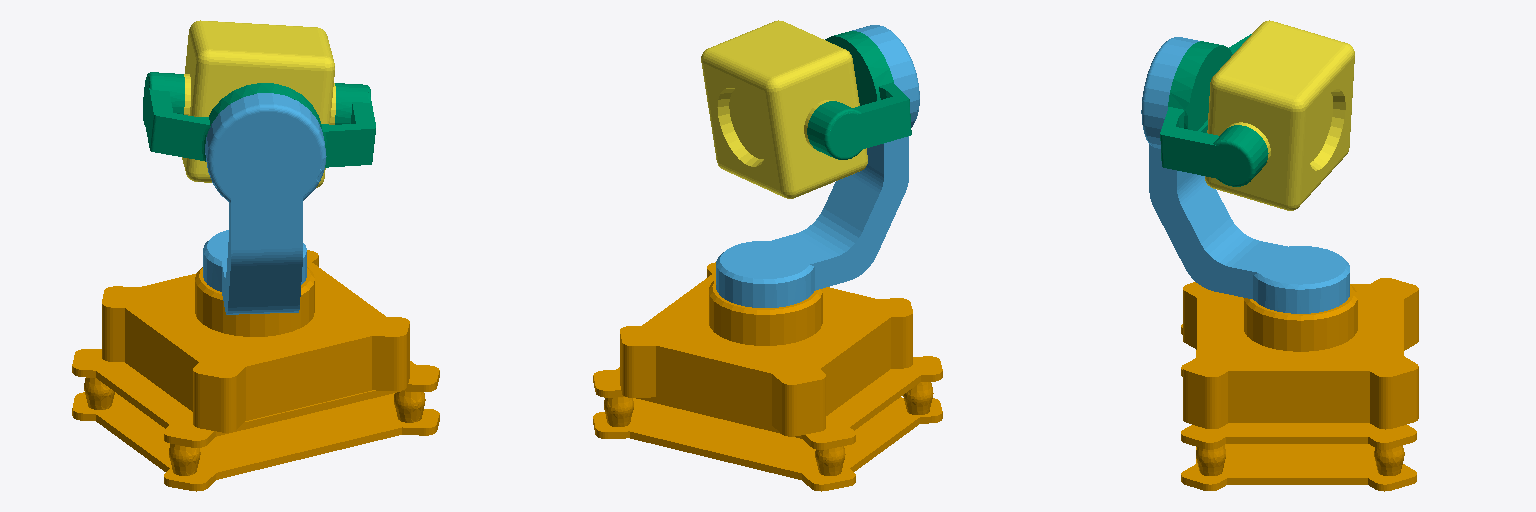
The robot description file, URDF, robot "generated_robot":
<?xml version='1.0' encoding='utf-8'?>
<robot name="generated_robot">
  <link name="base_link">
    <inertial>
      <origin xyz="0.00013909892 0.00013685687 -0.0015628412" rpy="0 0 0" />
      <mass value="0.079097845" />
      <inertia ixx="2.6851797e-05" iyy="3.1551232e-05" izz="4.7326611e-05" ixy="-2.0570896e-08" ixz="-5.749476e-08" iyz="-9.8053429e-08" />
    </inertial>
    <visual>
      <origin xyz="-0.0045947285 0.0051830235 -1.0195" rpy="0 0 0" />
      <geometry>
        <mesh filename="meshes/part_004_solid_004.stl" scale="0.001 0.001 0.001" />
      </geometry>
    </visual>
    <visual>
      <origin xyz="-0.0045947285 0.0051830235 -1.0195" rpy="0 0 0" />
      <geometry>
        <mesh filename="meshes/part_007_solid_007.stl" scale="0.001 0.001 0.001" />
      </geometry>
    </visual>
    <visual>
      <origin xyz="-0.0045947285 0.0051830235 -1.0195" rpy="0 0 0" />
      <geometry>
        <mesh filename="meshes/part_003_solid_003.stl" scale="0.001 0.001 0.001" />
      </geometry>
    </visual>
    <visual>
      <origin xyz="-0.0045947285 0.0051830235 -1.0195" rpy="0 0 0" />
      <geometry>
        <mesh filename="meshes/part_006_solid_006.stl" scale="0.001 0.001 0.001" />
      </geometry>
    </visual>
    <visual>
      <origin xyz="-0.0045947285 0.0051830235 -1.0195" rpy="0 0 0" />
      <geometry>
        <mesh filename="meshes/part_005_solid_005.stl" scale="0.001 0.001 0.001" />
      </geometry>
    </visual>
    <visual>
      <origin xyz="-0.0045947285 0.0051830235 -1.0195" rpy="0 0 0" />
      <geometry>
        <mesh filename="meshes/part_002_solid_002.stl" scale="0.001 0.001 0.001" />
      </geometry>
    </visual>
    <visual>
      <origin xyz="-0.0045947285 0.0051830235 -1.0195" rpy="0 0 0" />
      <geometry>
        <mesh filename="meshes/part_001_solid_001.stl" scale="0.001 0.001 0.001" />
      </geometry>
    </visual>
    <collision>
      <origin xyz="-0.0045947285 0.0051830235 -1.0195" rpy="0 0 0" />
      <geometry>
        <mesh filename="meshes/part_004_solid_004.stl" scale="0.001 0.001 0.001" />
      </geometry>
    </collision>
    <collision>
      <origin xyz="-0.0045947285 0.0051830235 -1.0195" rpy="0 0 0" />
      <geometry>
        <mesh filename="meshes/part_007_solid_007.stl" scale="0.001 0.001 0.001" />
      </geometry>
    </collision>
    <collision>
      <origin xyz="-0.0045947285 0.0051830235 -1.0195" rpy="0 0 0" />
      <geometry>
        <mesh filename="meshes/part_003_solid_003.stl" scale="0.001 0.001 0.001" />
      </geometry>
    </collision>
    <collision>
      <origin xyz="-0.0045947285 0.0051830235 -1.0195" rpy="0 0 0" />
      <geometry>
        <mesh filename="meshes/part_006_solid_006.stl" scale="0.001 0.001 0.001" />
      </geometry>
    </collision>
    <collision>
      <origin xyz="-0.0045947285 0.0051830235 -1.0195" rpy="0 0 0" />
      <geometry>
        <mesh filename="meshes/part_005_solid_005.stl" scale="0.001 0.001 0.001" />
      </geometry>
    </collision>
    <collision>
      <origin xyz="-0.0045947285 0.0051830235 -1.0195" rpy="0 0 0" />
      <geometry>
        <mesh filename="meshes/part_002_solid_002.stl" scale="0.001 0.001 0.001" />
      </geometry>
    </collision>
    <collision>
      <origin xyz="-0.0045947285 0.0051830235 -1.0195" rpy="0 0 0" />
      <geometry>
        <mesh filename="meshes/part_001_solid_001.stl" scale="0.001 0.001 0.001" />
      </geometry>
    </collision>
  </link>
  <link name="link_YAW">
    <inertial>
      <origin xyz="-0.0069977394 -0.014614324 0.013633263" rpy="0 0 0" />
      <mass value="0.023667484" />
      <inertia ixx="1.516529e-05" iyy="1.1481096e-05" izz="7.8066941e-06" ixy="-2.2889e-06" ixz="2.8085623e-06" iyz="5.8654173e-06" />
    </inertial>
    <visual>
      <origin xyz="-0.0048032038 0.0049472985 -1.039" rpy="0 0 0" />
      <geometry>
        <mesh filename="meshes/part_008_solid_008.stl" scale="0.001 0.001 0.001" />
      </geometry>
    </visual>
    <collision>
      <origin xyz="-0.0048032038 0.0049472985 -1.039" rpy="0 0 0" />
      <geometry>
        <mesh filename="meshes/part_008_solid_008.stl" scale="0.001 0.001 0.001" />
      </geometry>
    </collision>
  </link>
  <link name="link_ROLL">
    <inertial>
      <origin xyz="-6.0988092e-08 2.7535263e-10 -0.012381598" rpy="0 0 0" />
      <mass value="0.013033425" />
      <inertia ixx="1.8374964e-06" iyy="4.9212611e-06" izz="4.0390911e-06" ixy="3.1356037e-07" ixz="-1.0114726e-11" iyz="1.9803367e-13" />
    </inertial>
    <visual>
      <origin xyz="-0.0064687661 -1.089 -0.037934806" rpy="-1.5707963 0.44656282 0" />
      <geometry>
        <mesh filename="meshes/part_009_solid_009.stl" scale="0.001 0.001 0.001" />
      </geometry>
    </visual>
    <collision>
      <origin xyz="-0.0064687661 -1.089 -0.037934806" rpy="-1.5707963 0.44656282 0" />
      <geometry>
        <mesh filename="meshes/part_009_solid_009.stl" scale="0.001 0.001 0.001" />
      </geometry>
    </collision>
  </link>
  <link name="link_PITCH">
    <inertial>
      <origin xyz="0.00079794277 -0.00025419143 -0.017500002" rpy="0 0 0" />
      <mass value="0.038839518" />
      <inertia ixx="7.8388505e-06" iyy="6.4743124e-06" izz="6.1440056e-06" ixy="-4.8376547e-07" ixz="-1.114686e-14" iyz="-3.8390454e-12" />
    </inertial>
    <visual>
      <origin xyz="-0.21249174 -1.0631895 0.085123729" rpy="-1.7997729 -1.1138466 0" />
      <geometry>
        <mesh filename="meshes/part_010_solid_010.stl" scale="0.001 0.001 0.001" />
      </geometry>
    </visual>
    <collision>
      <origin xyz="-0.21249174 -1.0631895 0.085123729" rpy="-1.7997729 -1.1138466 0" />
      <geometry>
        <mesh filename="meshes/part_010_solid_010.stl" scale="0.001 0.001 0.001" />
      </geometry>
    </collision>
    <camera>
      <image width="640" height="480"/>
      <clip near="0.01" far="100"/>
    </camera>
  </link>
  <joint name="link_YAW_joint" type="revolute">
    <origin xyz="0.00020847528 0.00023572496 0.0195" rpy="0 0 0" />
    <parent link="base_link" />
    <child link="link_YAW" />
    <axis xyz="0 0 1" />
    <limit lower="-1.57" upper="1.57" effort="10" velocity="5" />
  </joint>
  <joint name="link_ROLL_joint" type="revolute">
    <origin xyz="-0.015351613 -0.032061153 0.05" rpy="1.5707963 0 -0.44656282" />
    <parent link="link_YAW" />
    <child link="link_ROLL" />
    <axis xyz="0 0 1" />
    <limit lower="-1.57" upper="1.57" effort="10" velocity="5" />
  </joint>
  <joint name="link_PITCH_joint" type="fixed">
    <origin xyz="0.017412022 -0.0017525708 -0.02826721" rpy="1.5707963 1.3646162 1.4704812" />
    <parent link="link_ROLL" />
    <child link="link_PITCH" />
  </joint>
  <gazebo reference="link_PITCH">
    <sensor type="camera" name="gimbal_camera">
      <pose>0 0 0.0175 -1.57 0 0</pose>
      <update_rate>30.0</update_rate>
      <camera name="gimbal_camera">
        <horizontal_fov>1.04719755</horizontal_fov>
        <image>
          <width>640</width>
          <height>480</height>
          <format>R8G8B8</format>
        </image>
        <clip>
          <near>0.01</near>
          <far>100</far>
        </clip>
      </camera>
      <plugin name="camera_controller" filename="libgazebo_ros_camera.so">
        <alwaysOn>true</alwaysOn>
        <updateRate>30.0</updateRate>
        <cameraName>gimbal_camera</cameraName>
        <imageTopicName>image_raw</imageTopicName>
        <cameraInfoTopicName>camera_info</cameraInfoTopicName>
        <frameName>link_PITCH</frameName>
        <hackBaseline>0.07</hackBaseline>
        <distortionK1>0.0</distortionK1>
        <distortionK2>0.0</distortionK2>
        <distortionK3>0.0</distortionK3>
        <distortionT1>0.0</distortionT1>
        <distortionT2>0.0</distortionT2>
      </plugin>
    </sensor>
  </gazebo>
</robot>

--- What the picture shows (computed from the rendered views, not written in the file) ---
3 views of the same robot in one strip: view 1: azimuth 30°, elevation 25°; view 2: azimuth 150°, elevation 25°; view 3: azimuth 270°, elevation 25° (orthographic).
Robot: generated_robot — 4 links, 3 joints (2 revolute, 1 fixed); root link base_link; default pose: all joints at 0.
Visible links, largest first — view 1: base_link, link_YAW, link_PITCH, link_ROLL; view 2: base_link, link_PITCH, link_YAW, link_ROLL; view 3: base_link, link_PITCH, link_YAW, link_ROLL.
Boxes of the visible links, <box> form: base_link: <box>72,250,439,491</box>; link_YAW: <box>203,93,326,314</box>; link_PITCH: <box>182,20,335,187</box>; link_ROLL: <box>143,72,375,167</box>; base_link: <box>593,262,942,491</box>; link_PITCH: <box>701,20,867,198</box>; link_YAW: <box>716,25,919,307</box>; link_ROLL: <box>807,31,911,159</box>; base_link: <box>1181,278,1418,491</box>; link_PITCH: <box>1205,20,1354,210</box>; link_YAW: <box>1141,37,1349,313</box>; link_ROLL: <box>1160,34,1268,186</box>.
Bounding box of the posed robot: 0.0787 × 0.0725 × 0.1087 m (x, y, z).
10 mesh visuals loaded from 10 distinct referenced files (10 binary STL).
